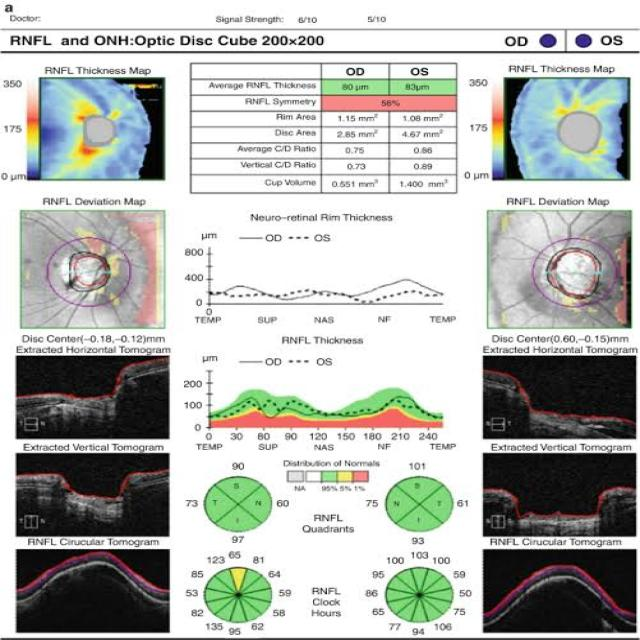rim area: (209, 112, 450, 126)
rim area-od: (326, 111, 384, 126)
rim area-os: (395, 110, 450, 126)
vertical cd ratio: (210, 158, 447, 175)
vertical cd ratio-od: (328, 158, 385, 173)
vertical cd ratio-os: (393, 158, 447, 174)
